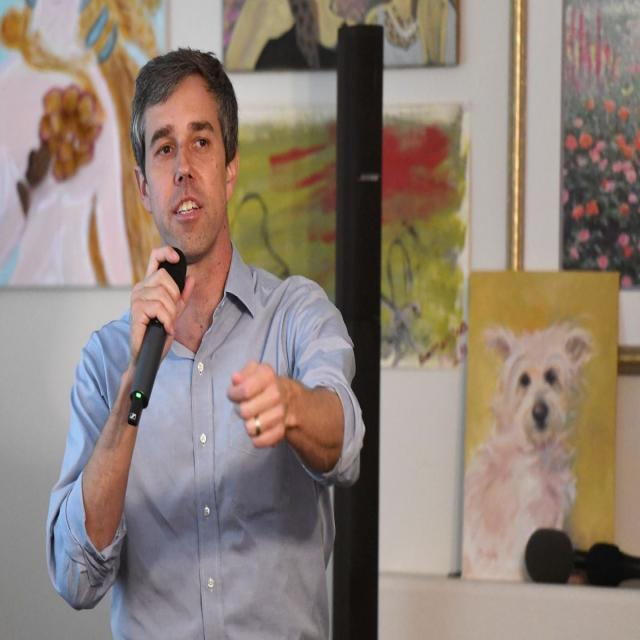mobile_phonerotation: (126, 245, 188, 427)
